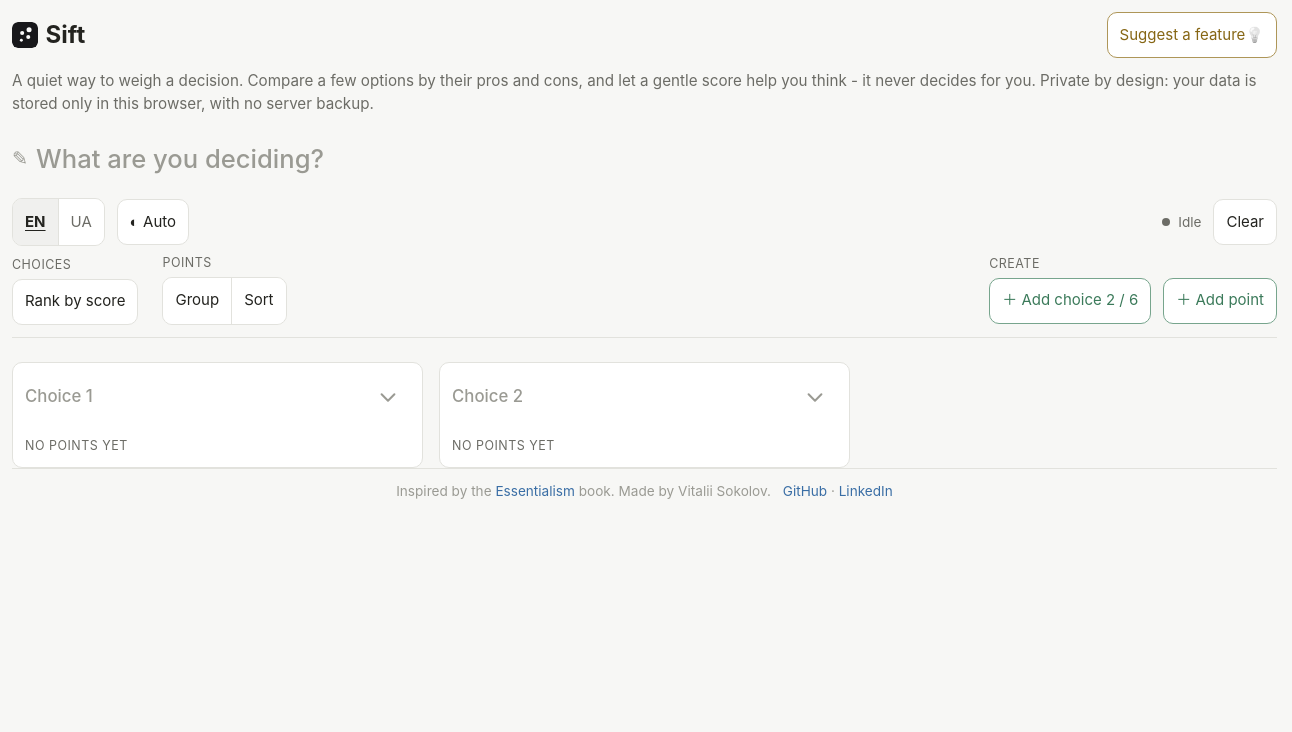
022 US5 — CTA colour roles: Add-point submit (R2) › R2: Add-point form submit has btn--primary
# Open the form, check the submit button
Click the button "＋ Add point".
click(1220, 301)  # box [1163,278,1277,324]
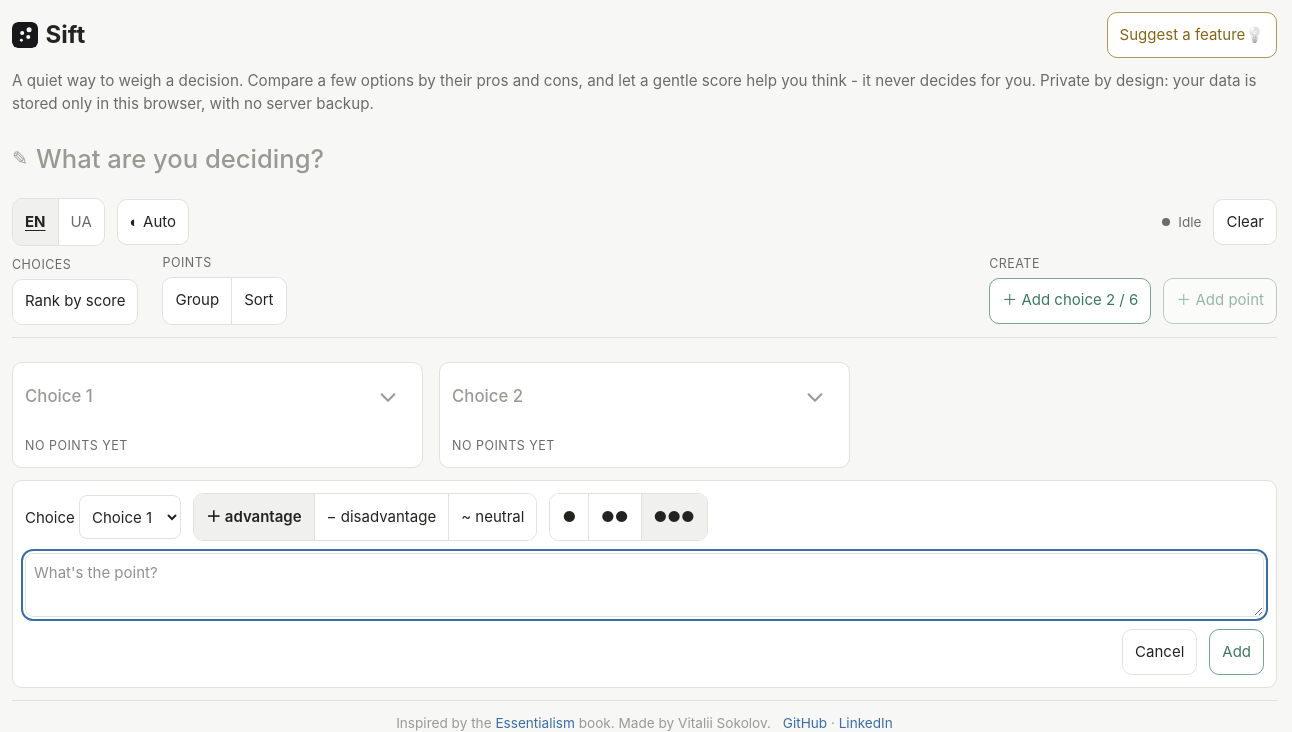
Expected: the button "Add" is shown, [1209,629,1264,675]
